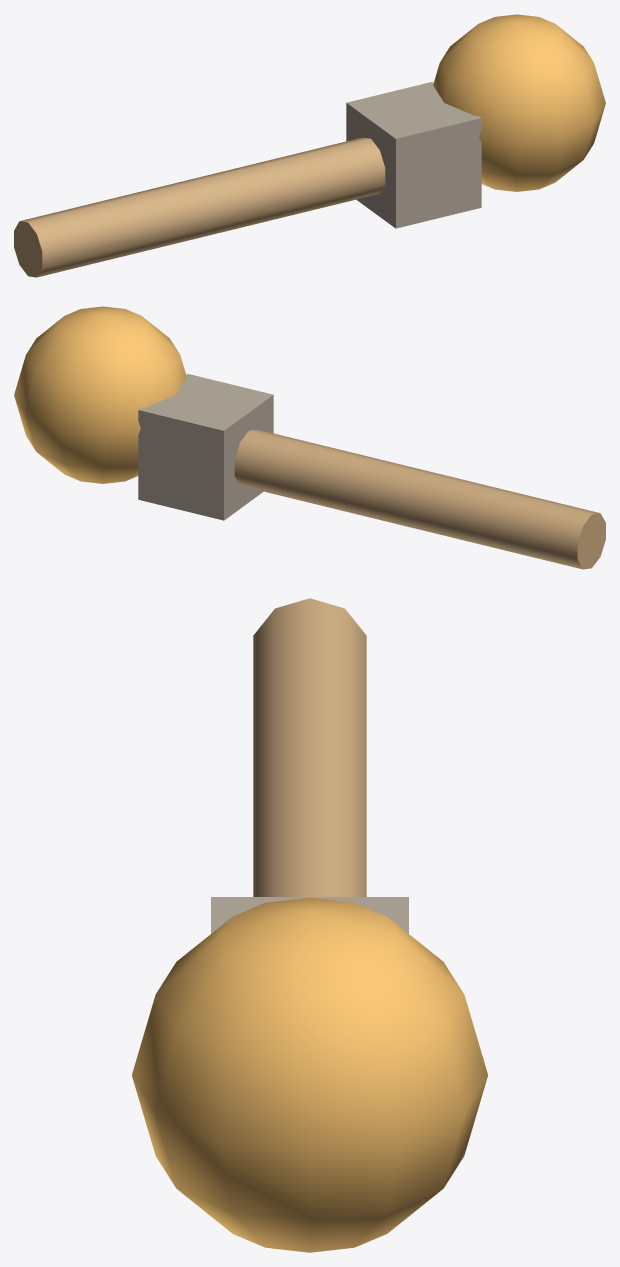
Rendered from weapon_torch.glb.
3 views of the same model, one above another, from view 1: azimuth 30°, elevation 25°; view 2: azimuth 150°, elevation 25°; view 3: azimuth 270°, elevation 25° (orthographic). The views are drawn at different scales.
Parts seen in each view (by area): view 1: weapon_torch; view 2: weapon_torch; view 3: weapon_torch.
Boxes of the visible parts, <box> form: weapon_torch: <box>14,14,605,277</box>; weapon_torch: <box>14,306,605,569</box>; weapon_torch: <box>132,598,487,1252</box>.
Size of the model in its own units: 0.66 by 0.18 by 0.18.
